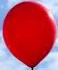Balloon: (3, 2, 56, 67)
